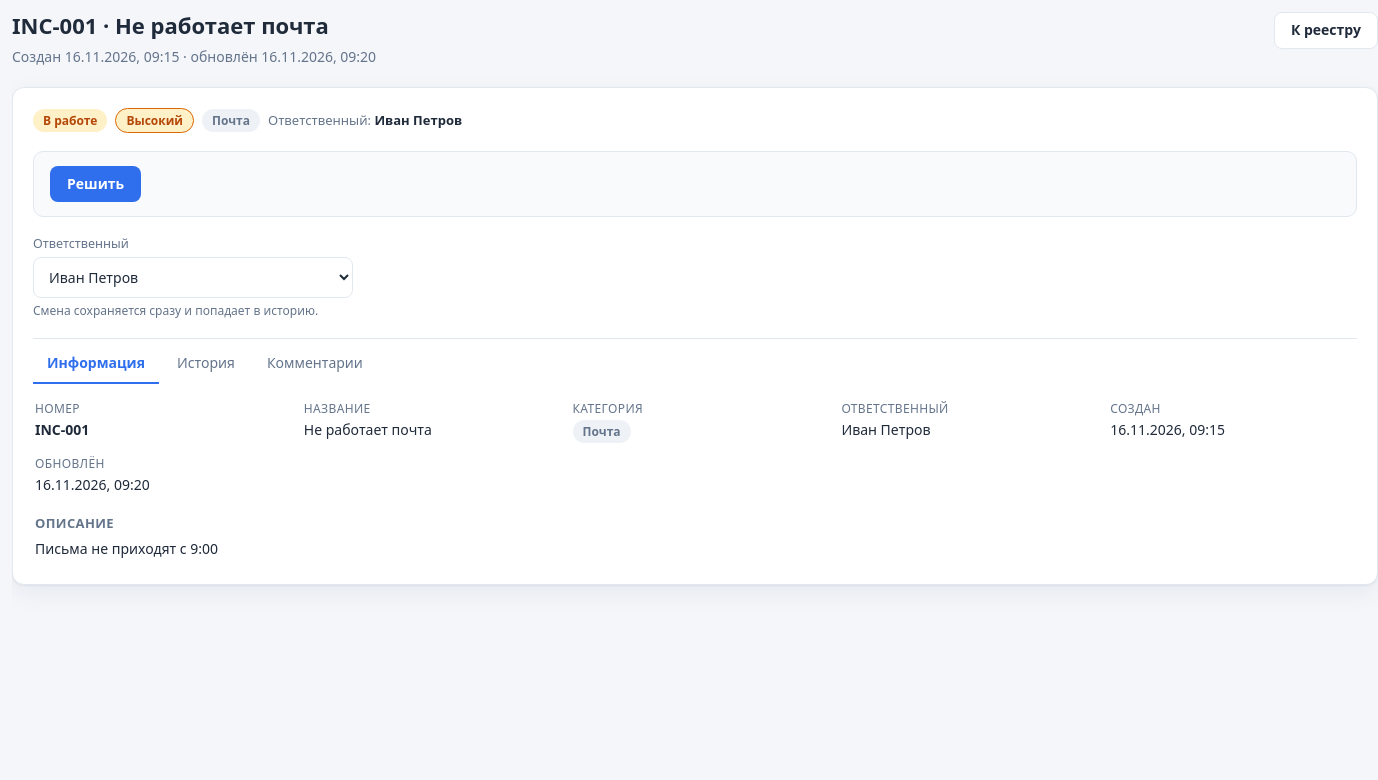
IncidentDetailPage — карточка › показывает пустые состояния комментариев и истории
The width and height of the screenshot is (1378, 780).
Expected: the button "Решить" is shown, [50,166,141,202]
Click the tab "Комментарии".
click(315, 364)  # box [253,343,377,384]
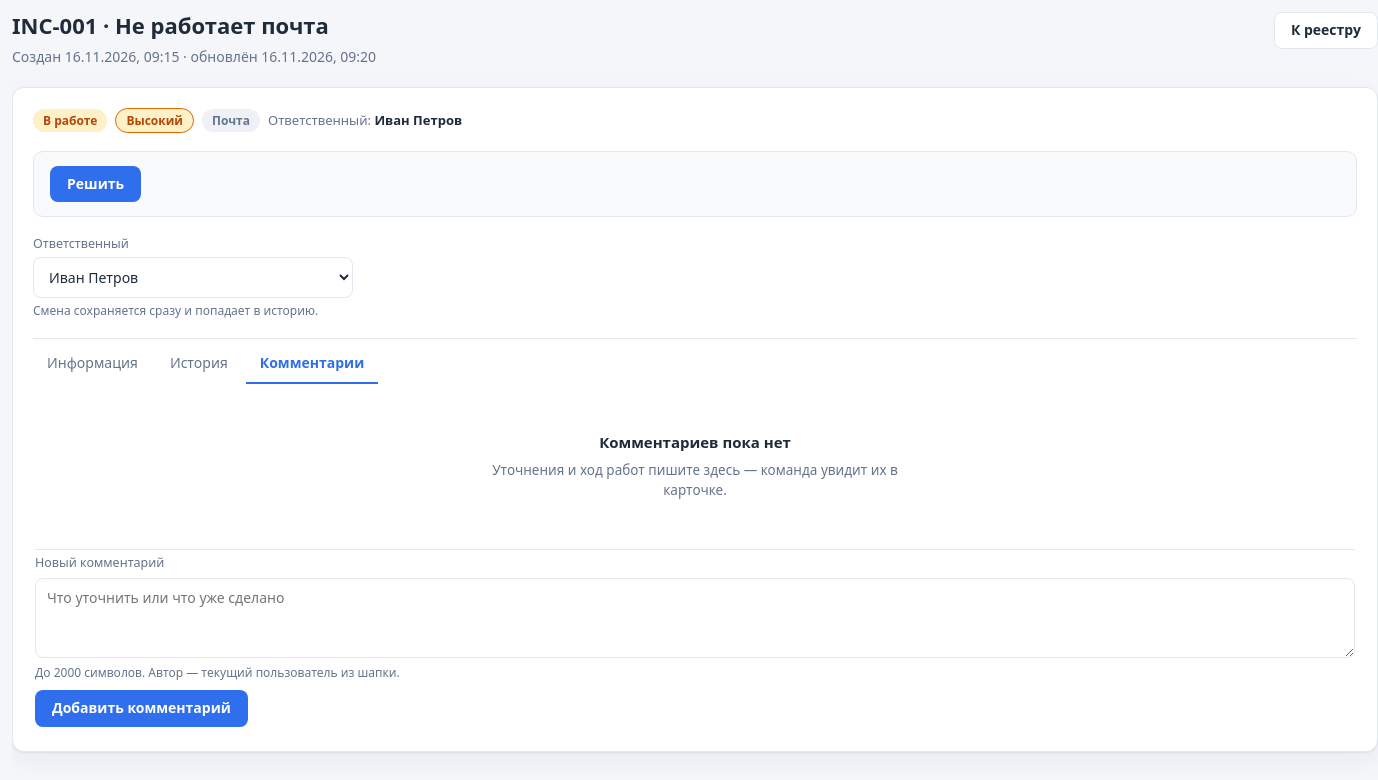
Result: the text "Комментариев пока нет" is shown at [599,432,791,452]
Click the tab "История".
click(199, 364)  # box [156,343,242,384]
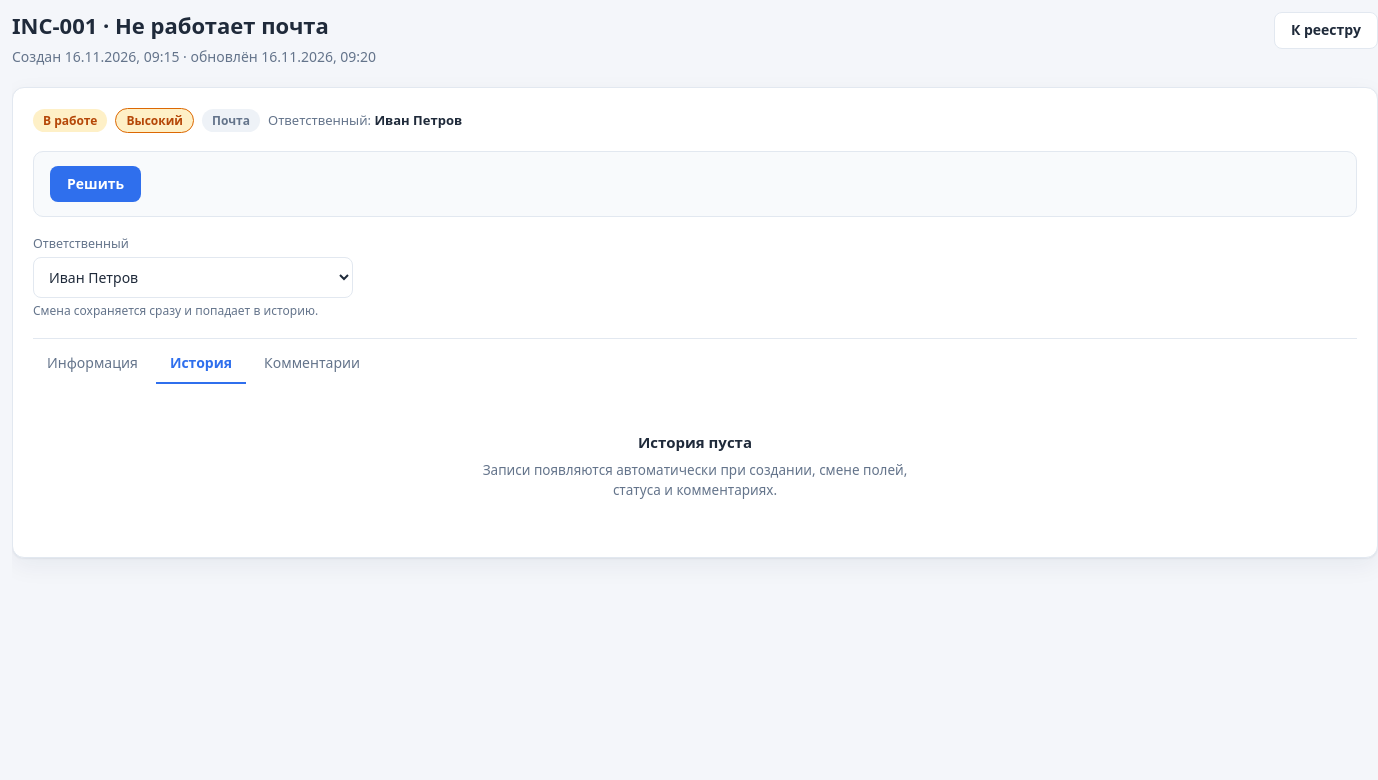
Result: the text "История пуста" is shown at [638,432,752,452]
